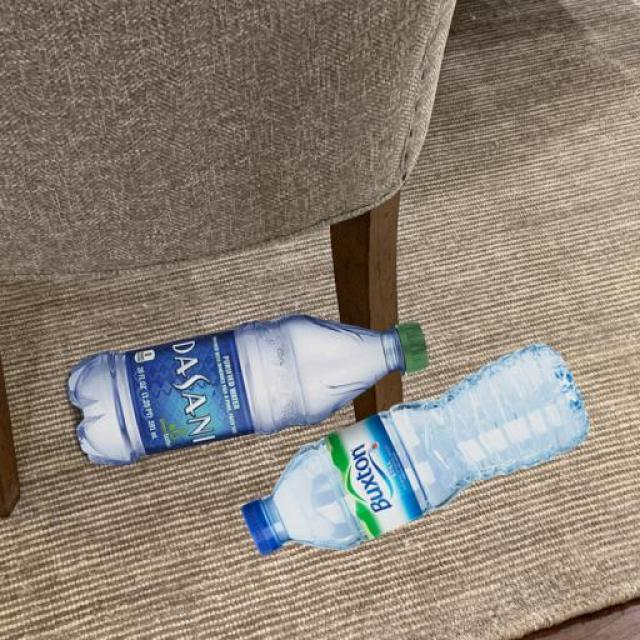bottle: (239, 342, 589, 556), (64, 312, 428, 466)
